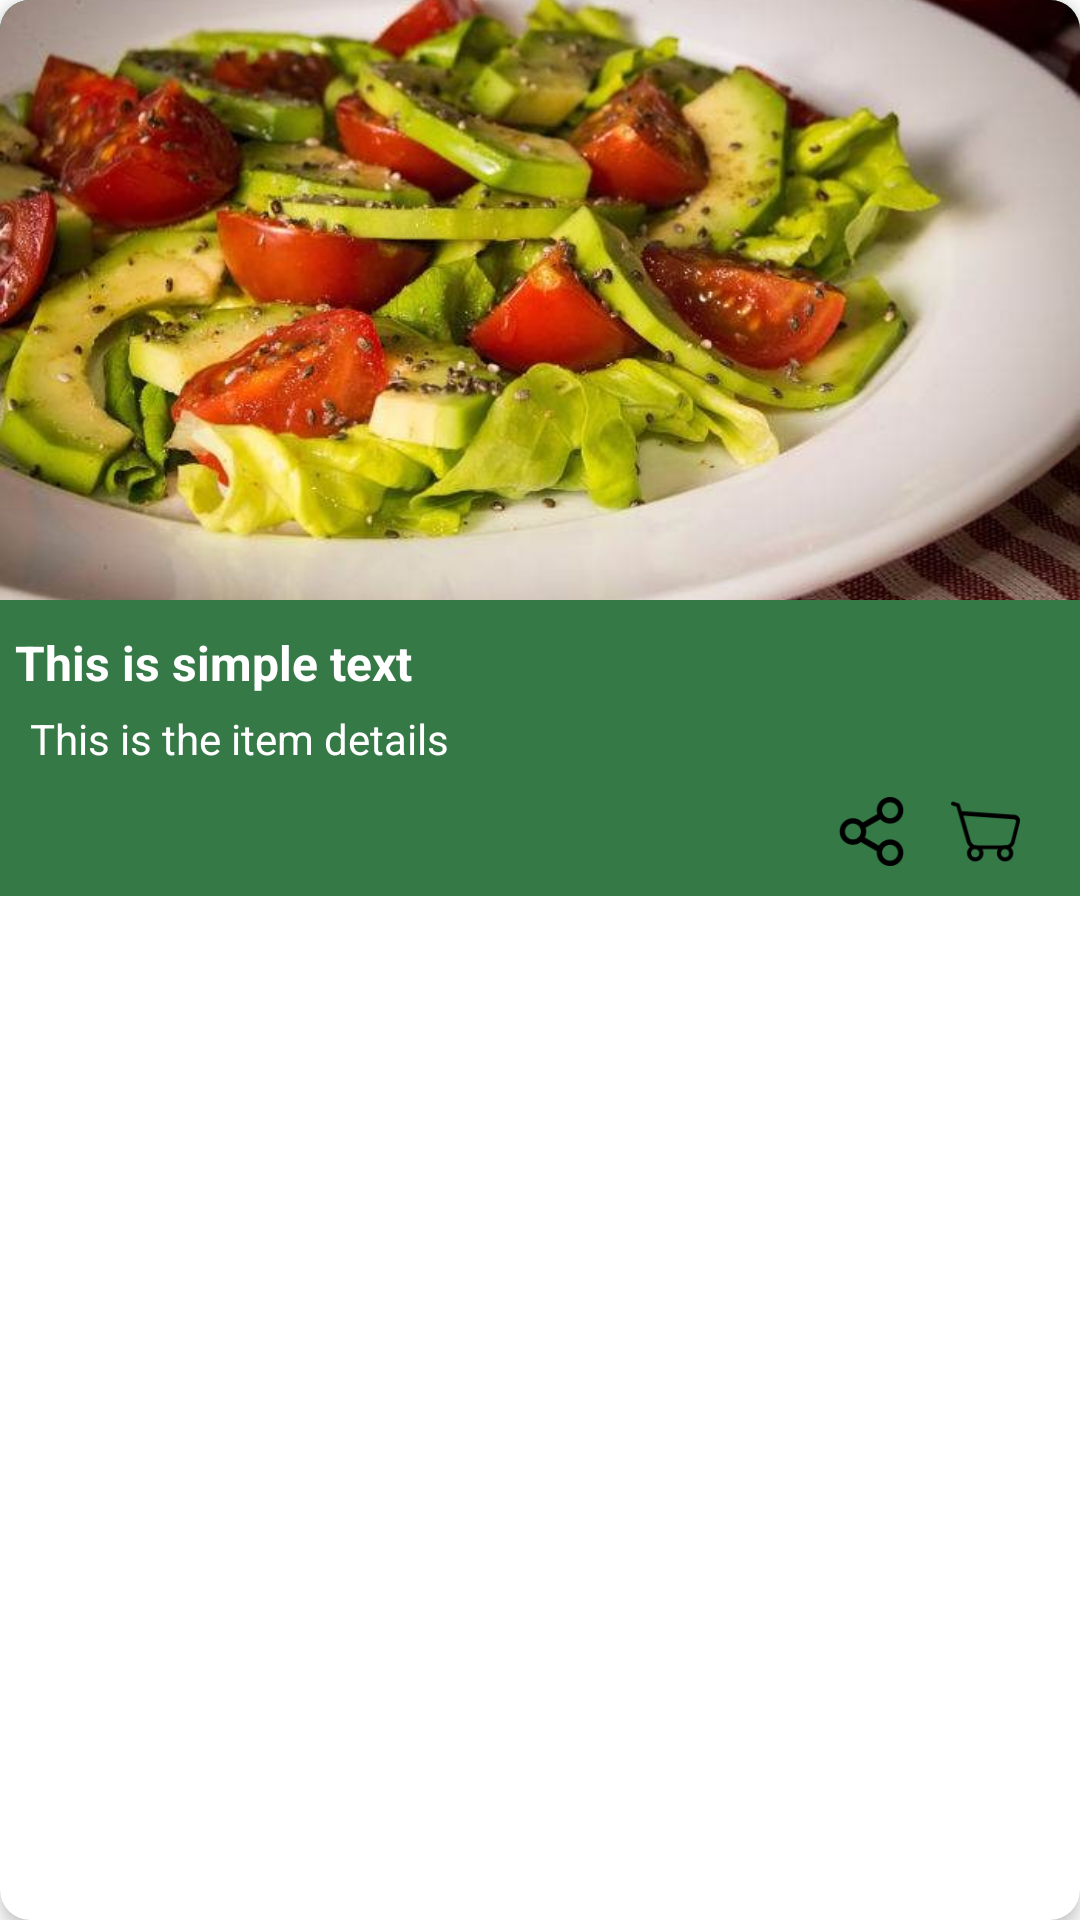

Named icons in this screenshot (1080*1920) and their centers, (x=x, y=y):
shoppingcart: (x=985, y=831)
